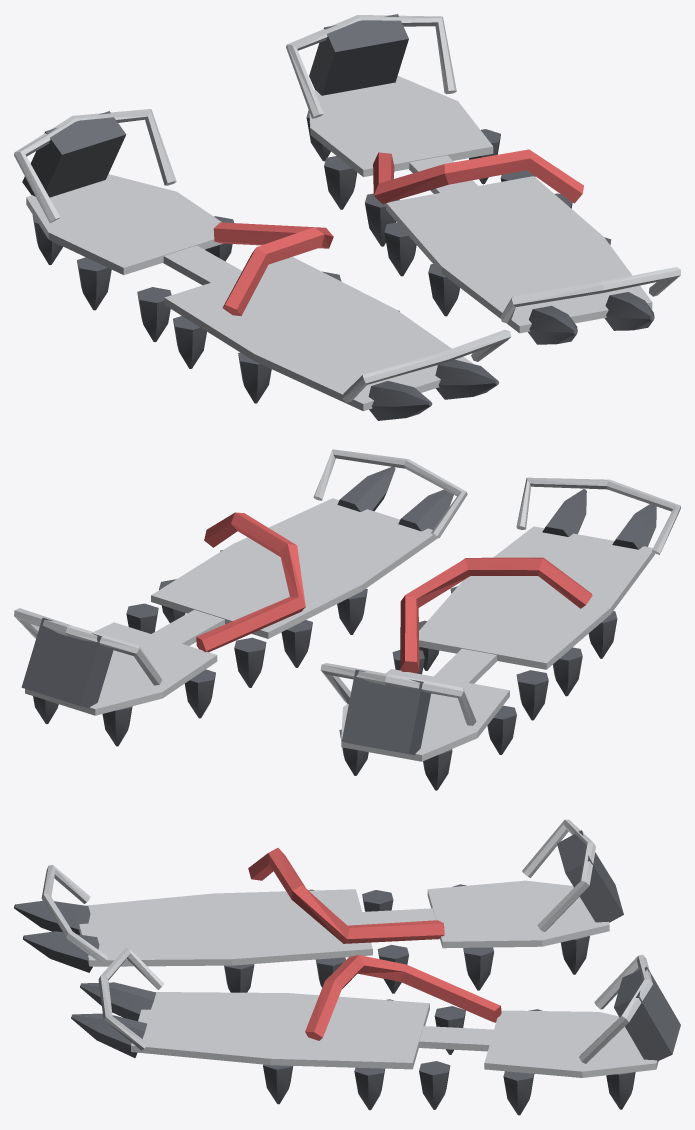
File: mountaineering-and-summit-expedition-crampons-pair-2ccc632e__18814.glb
The picture shows the model from 3 angles, top to bottom: view 1: azimuth 30°, elevation 25°; view 2: azimuth 150°, elevation 25°; view 3: azimuth 270°, elevation 25°; orthographic projection. The views are drawn at different scales.
Visible parts, largest first — view 1: crampons-pair; view 2: crampons-pair; view 3: crampons-pair.
Boxes of the visible parts, bbox=[...] form: crampons-pair: bbox=[14, 14, 680, 420]; crampons-pair: bbox=[14, 449, 680, 790]; crampons-pair: bbox=[14, 819, 680, 1115].
Size of the model in its own units: 0.3312 by 0.0875 by 0.4687.
